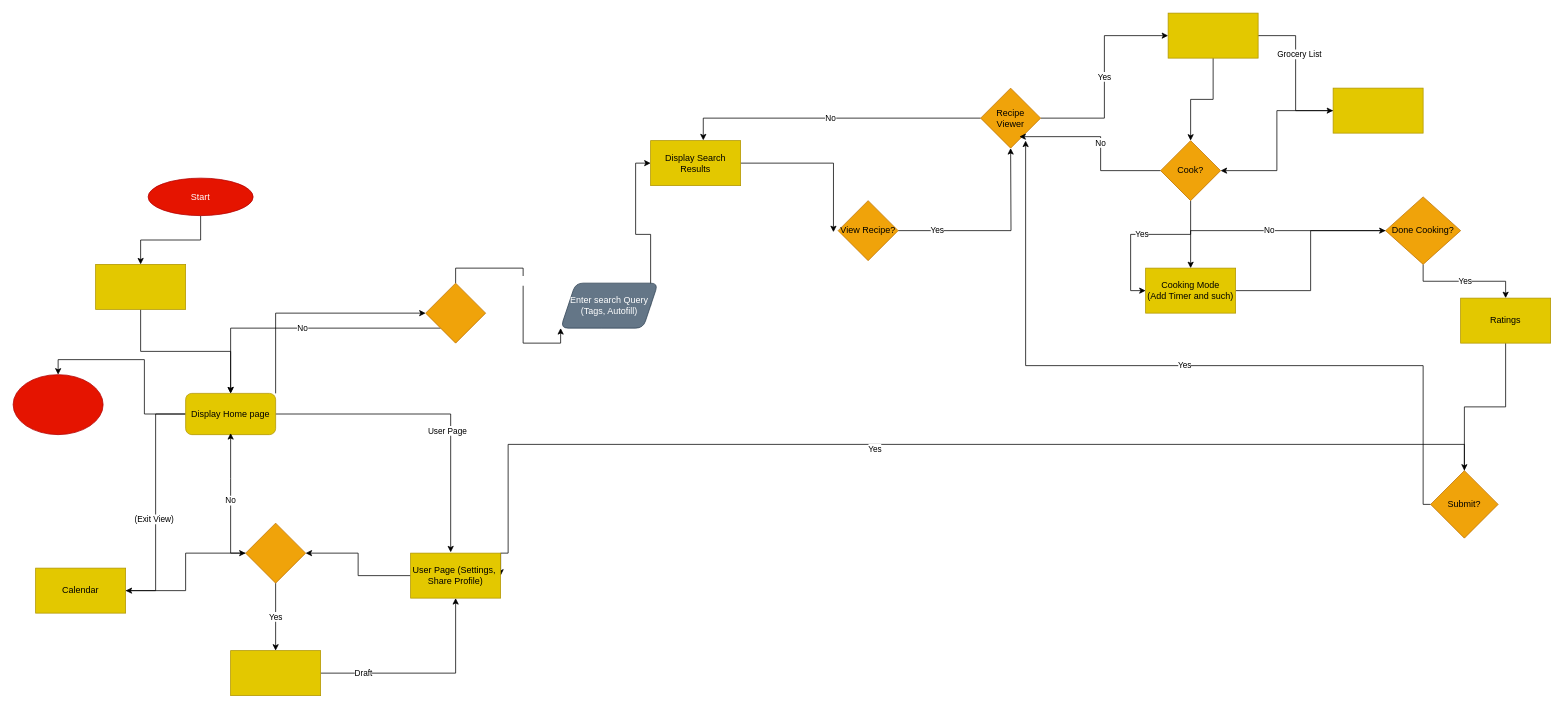
This 1564x709 diagram has some shape labels left out. The centre of each missing label's shape, as x and y in pixels:
Add Recipe Form: the point at 275,673
Add Recipe?: the point at 275,552
Enter Site: the point at 140,286
Grocery Page: the point at 1377,110
Leave: the point at 57,404
Search for Recipe: the point at 455,312
Summary/ Ingredients/ Directions: the point at 1212,35
